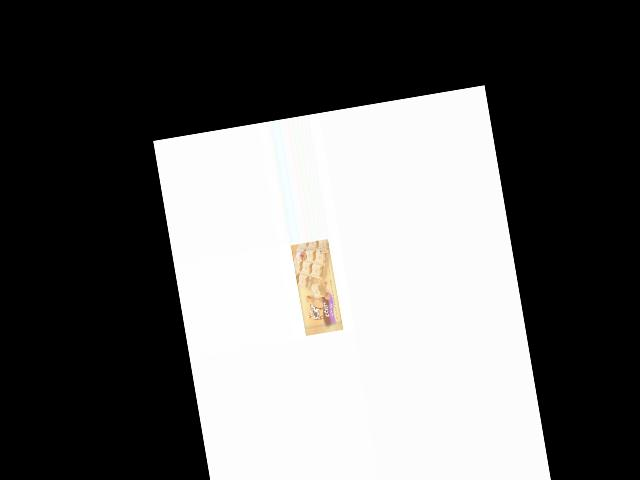chocolate: (290, 238, 346, 338)
